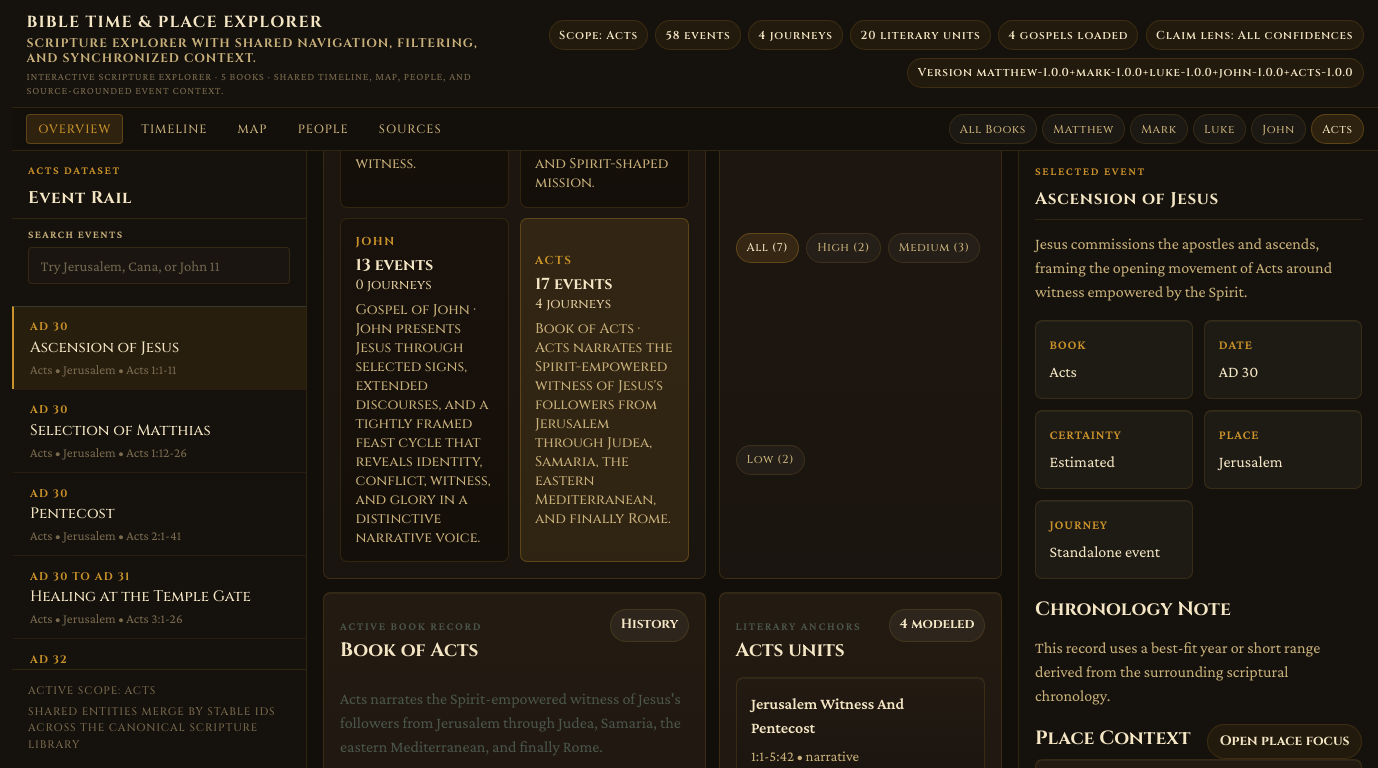
Scenario: App › lets overview claim-confidence controls filter shared claim surfaces
This screenshot has width=1378, height=768.
(page scrolled)
Click the button "Low (2)" at [770, 460], box left=736, top=444, right=805, bottom=475
(page scrolled)
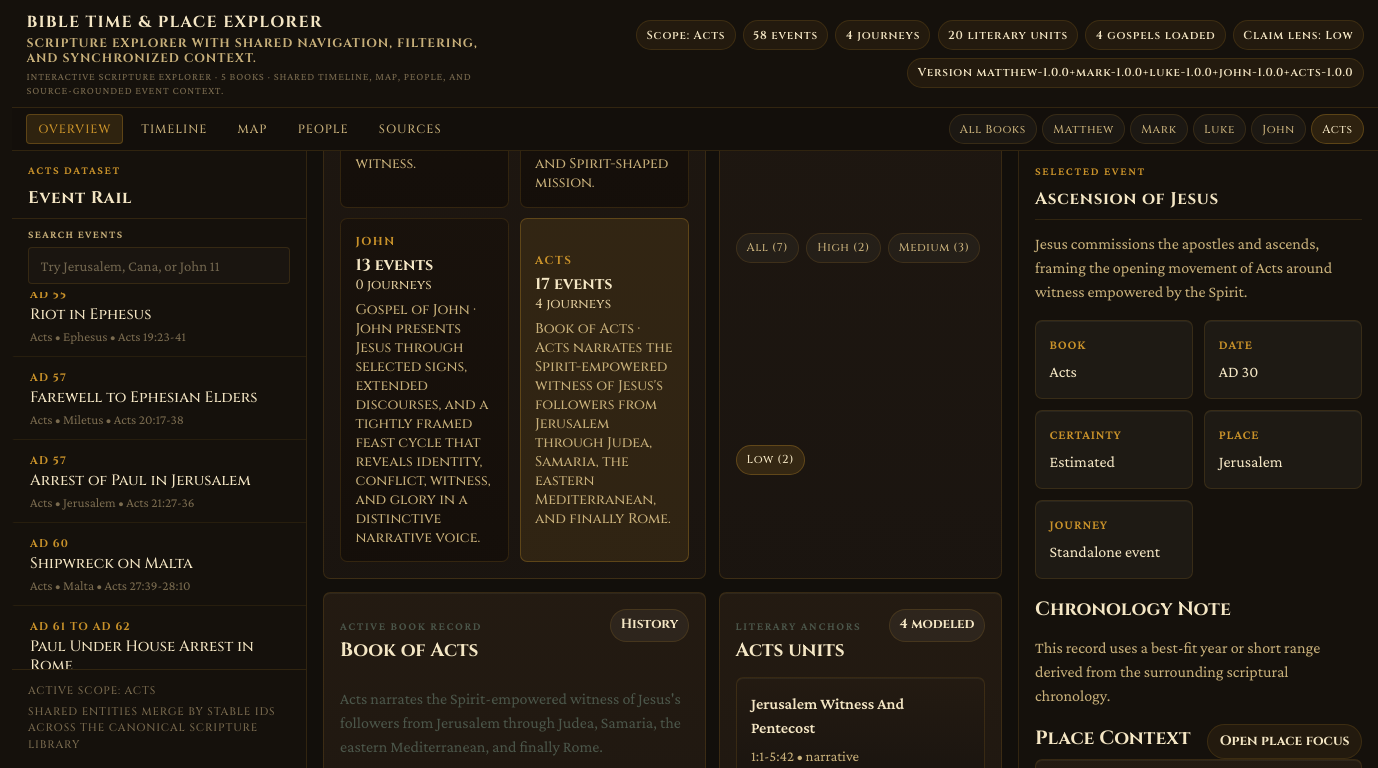
Click the button "Arrest of Paul in Jerusalem" at [159, 481], box left=12, top=439, right=306, bottom=522
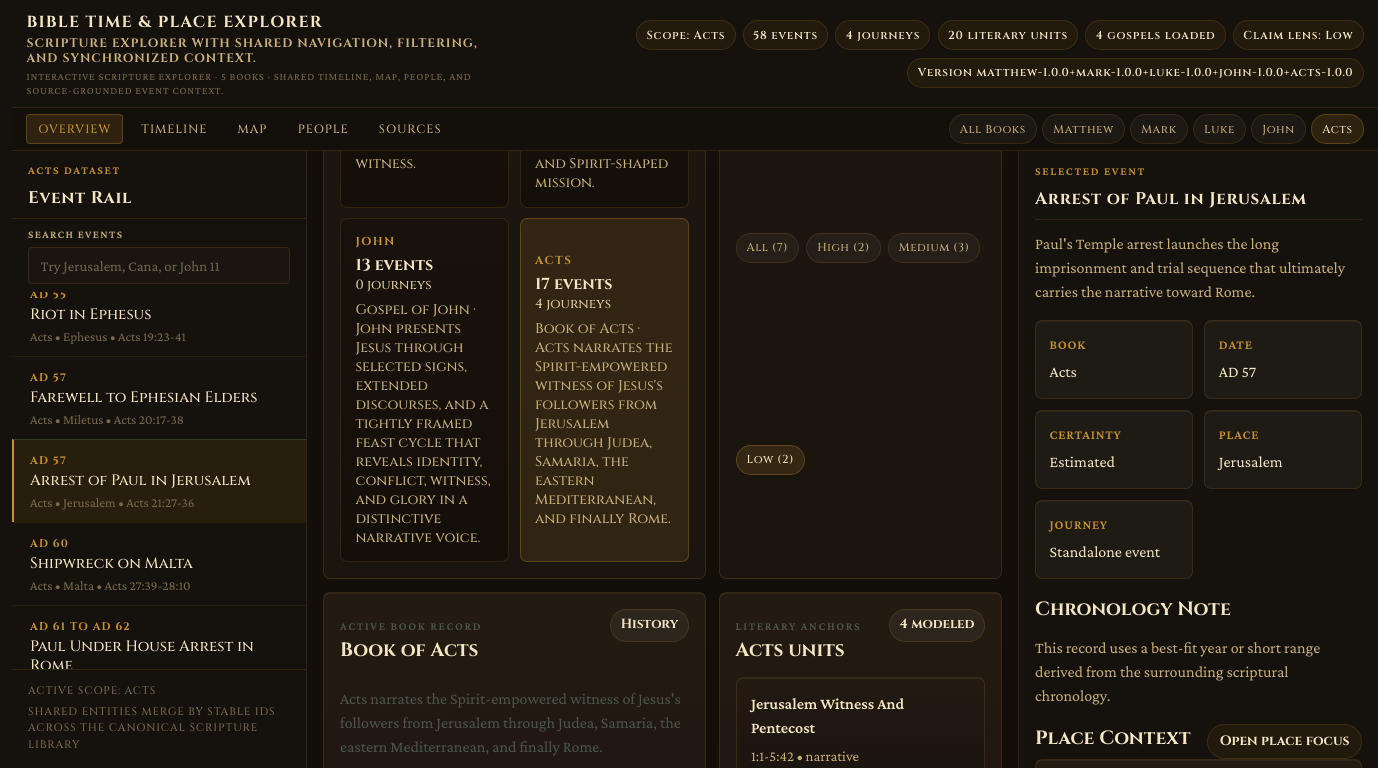
Click the tab "Sources" at [410, 129], box left=367, top=114, right=453, bottom=144
(page scrolled)
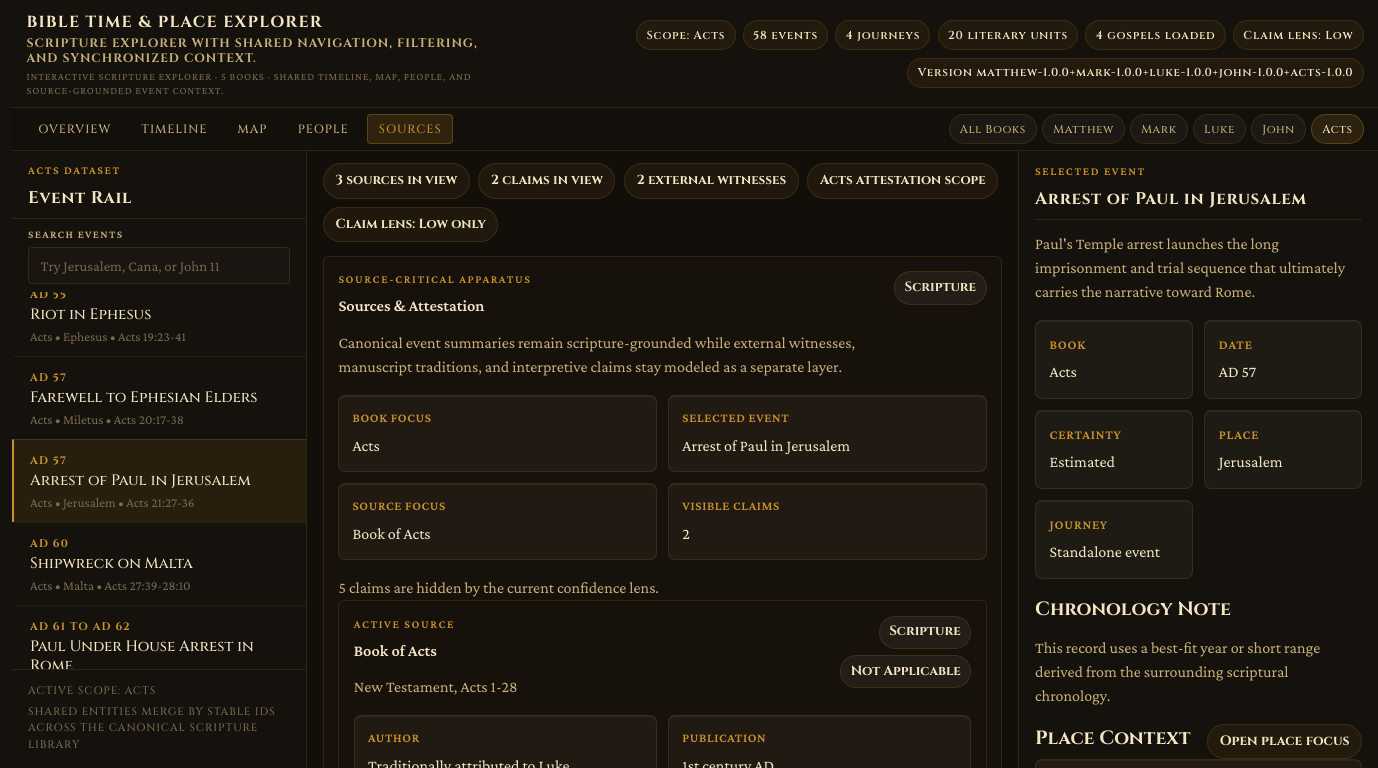
Expected: the text "2 claims in view" is shown, left=478, top=163, right=616, bottom=198
